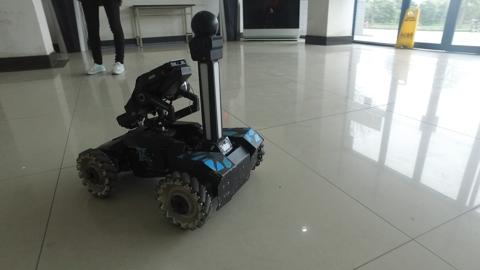chariot: (73, 9, 266, 232)
